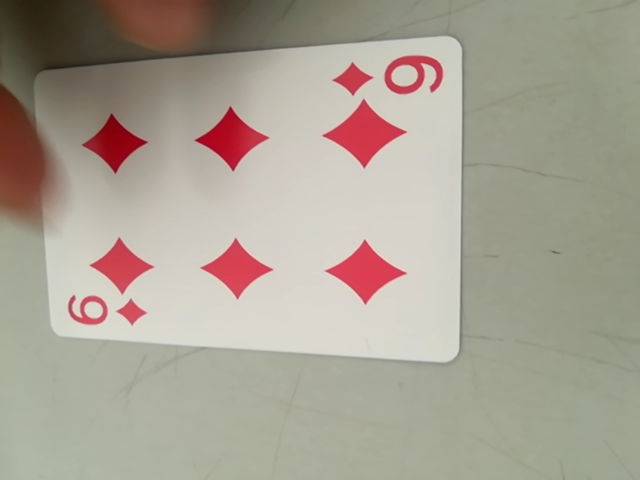fk 6: (333, 49, 447, 104), (57, 289, 147, 336)
